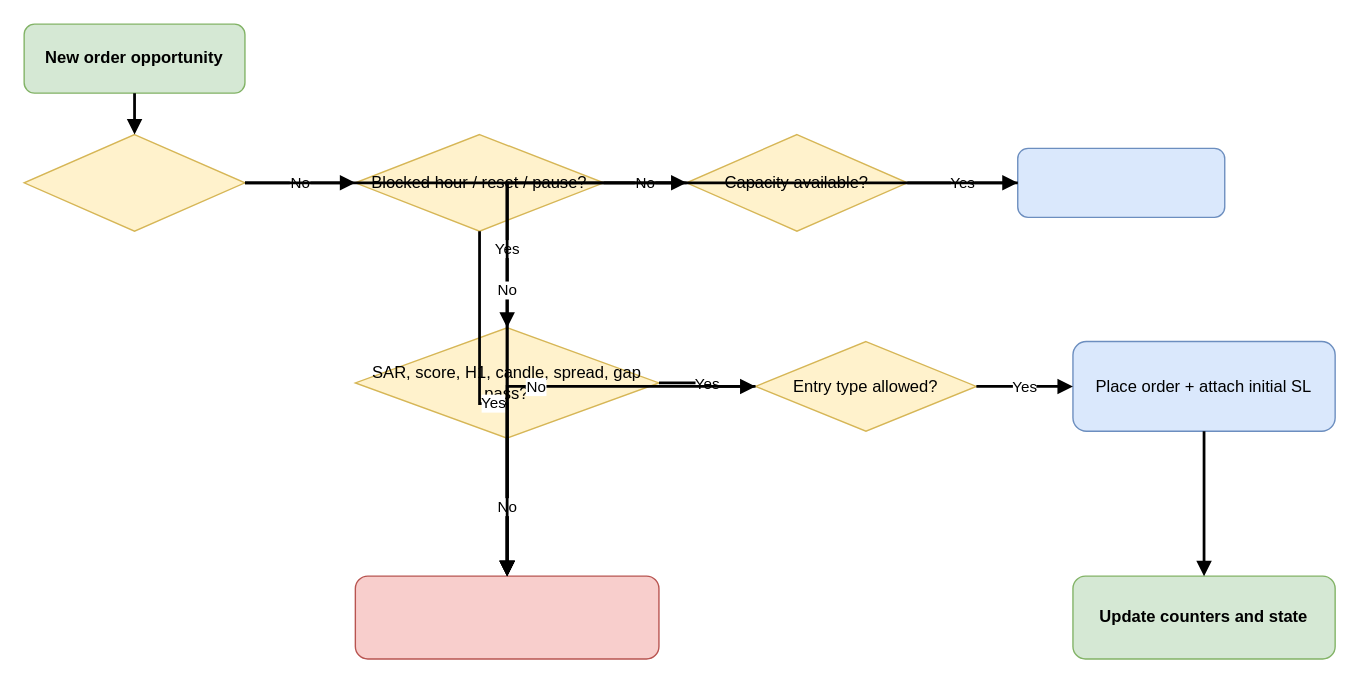
The diagram is 1359 pixels wide and 683 high, and some of its shapes have lost their labels. Each missing label, with the centre of its shape:
Daily/equity/profit lock?: pixel 134 182
Determine BUY/SELL: pixel 1120 182
Reject and log reason: pixel 506 617
